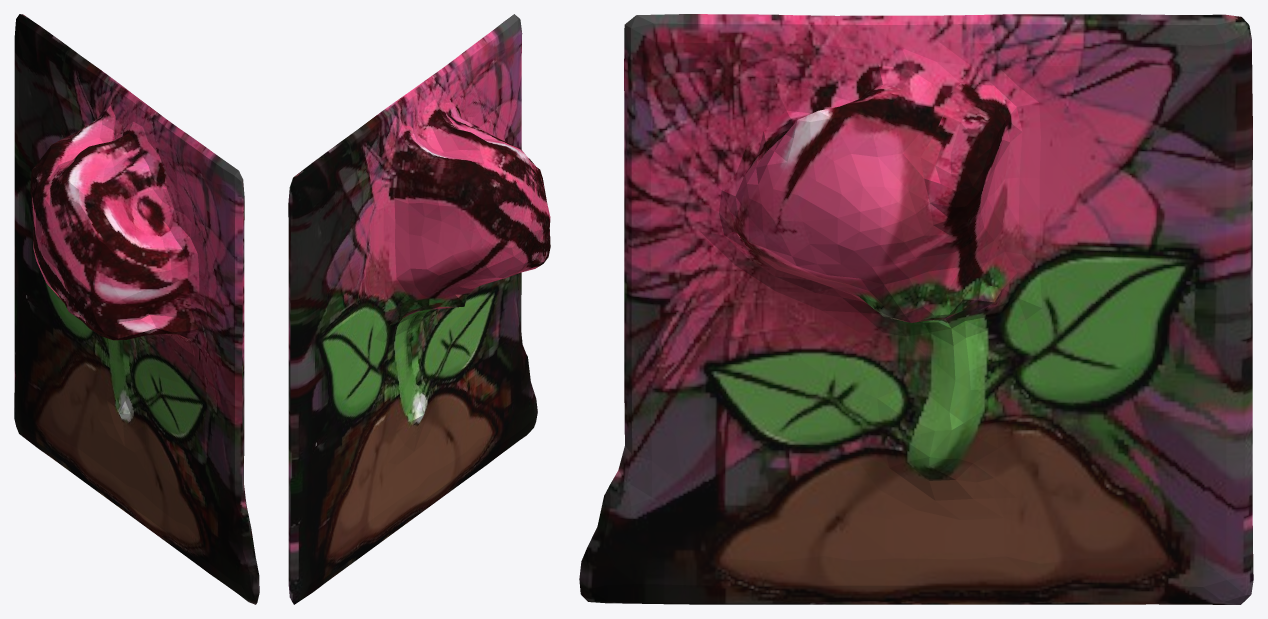
The model's file is gul.glb.
3 renders of one model, left to right at view 1: azimuth 30°, elevation 25°; view 2: azimuth 150°, elevation 25°; view 3: azimuth 270°, elevation 25°, orthographic. The views are drawn at different scales.
Visible parts, largest first — view 1: geometry_0; view 2: geometry_0; view 3: geometry_0.
Boxes of the visible parts, box(x1,y1,x2,y2) form: geometry_0: box(14, 14, 259, 604); geometry_0: box(288, 14, 550, 604); geometry_0: box(579, 14, 1253, 604).
Bounding box in the file's own units: 0.4163 × 0.9835 × 1.02.
1 material, 1 textured.
